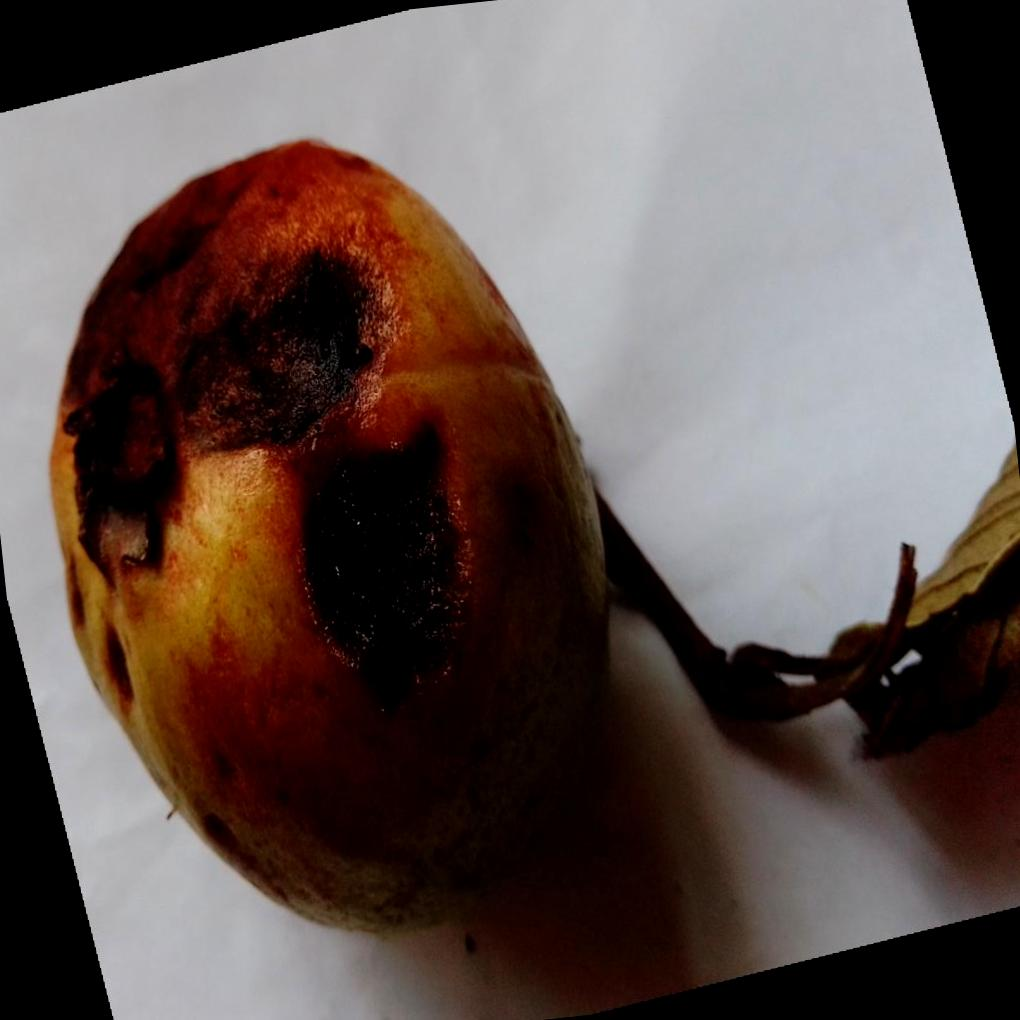FreshOrange: (49, 136, 614, 938)
